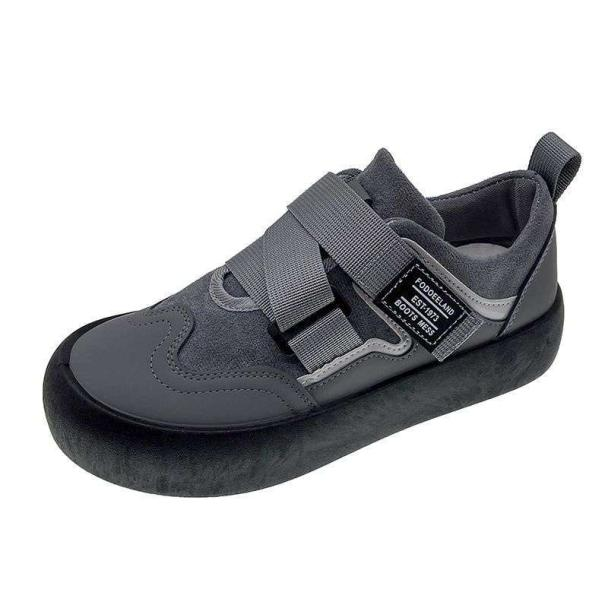Sepatu: (48, 159, 568, 496)
